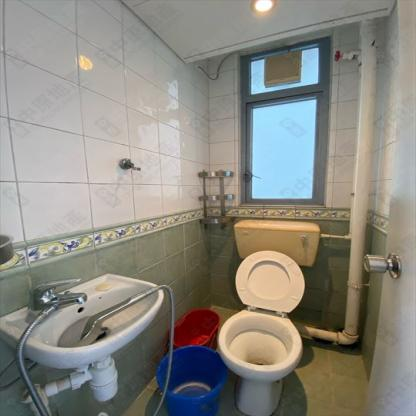Exhaust Fan: (261, 51, 299, 88)
Faucet: (22, 277, 100, 313)
Toilet: (215, 218, 321, 415)
Toilet Sink: (3, 271, 164, 370)
